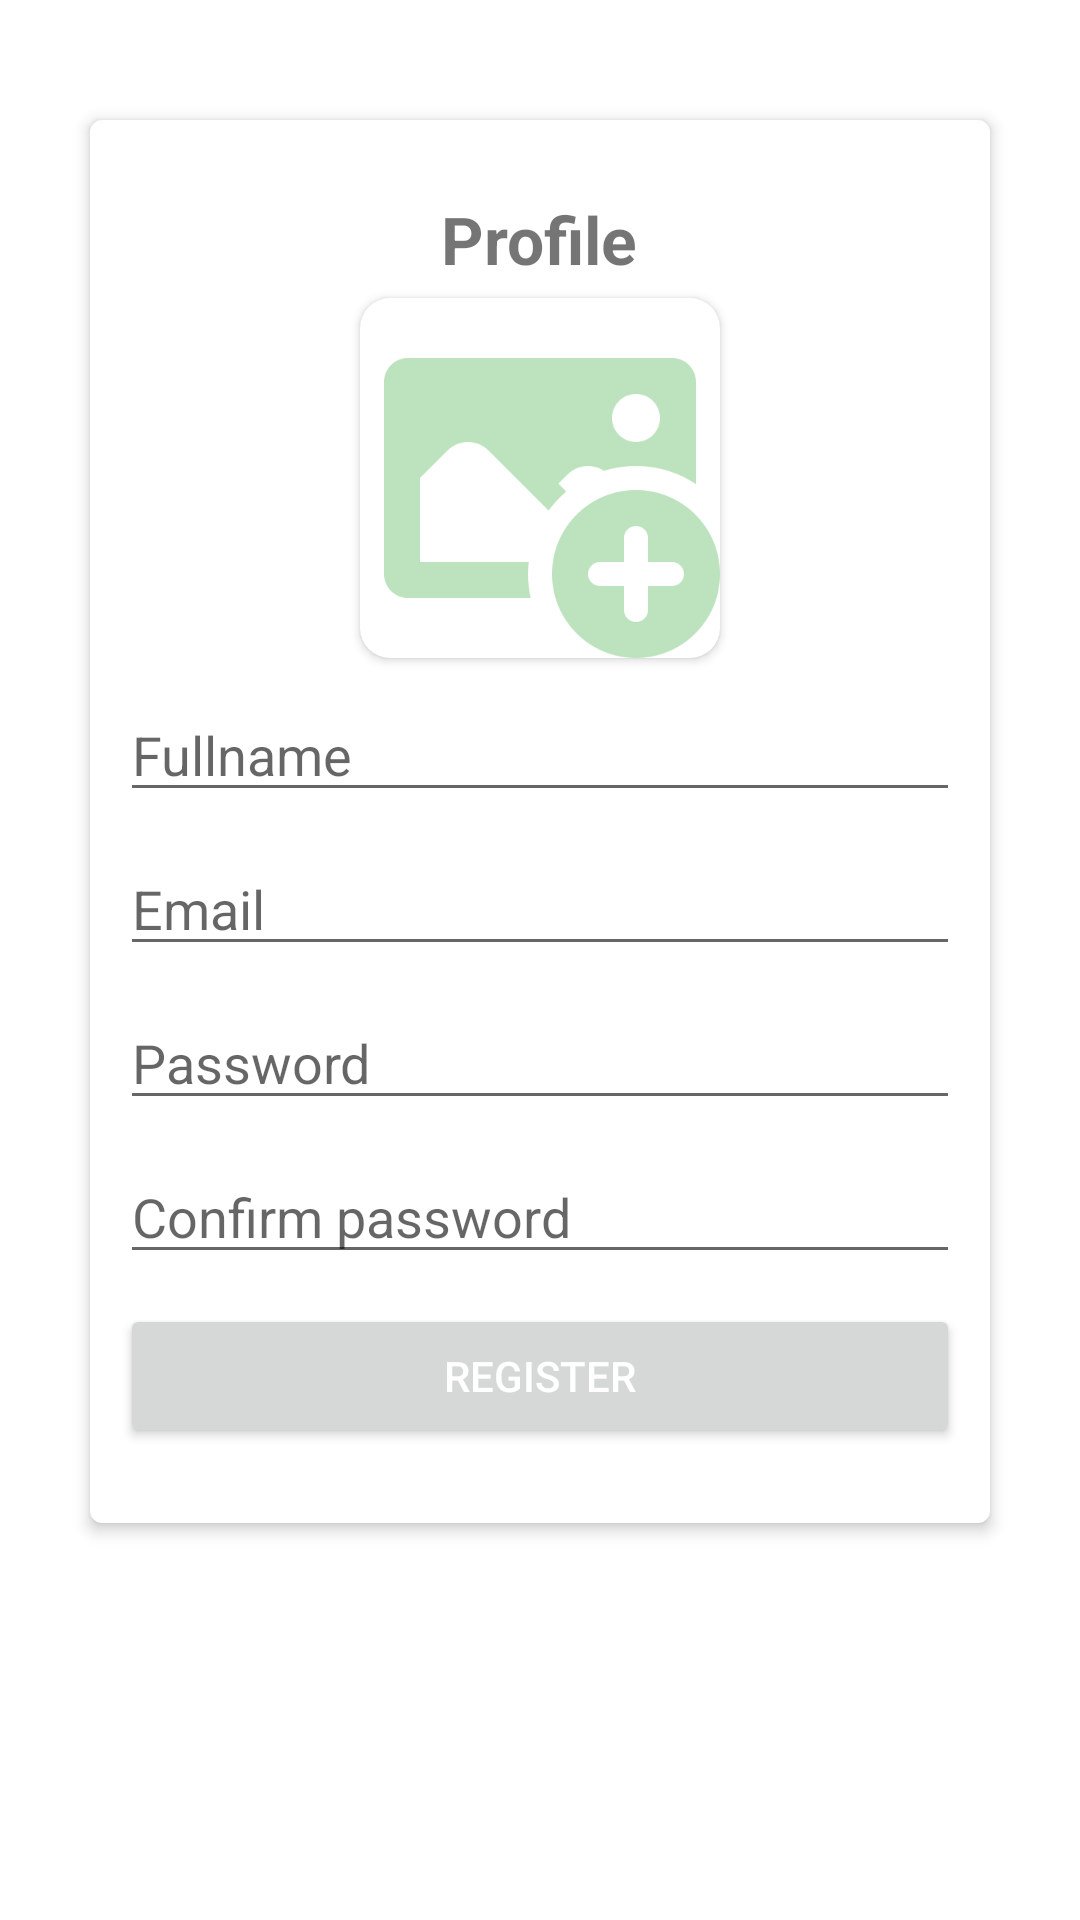

Icons on this 1080 x 1920 Android screen, each with its box as (x1, y1, x2, y2):
addpicture: (360, 311, 720, 658)
